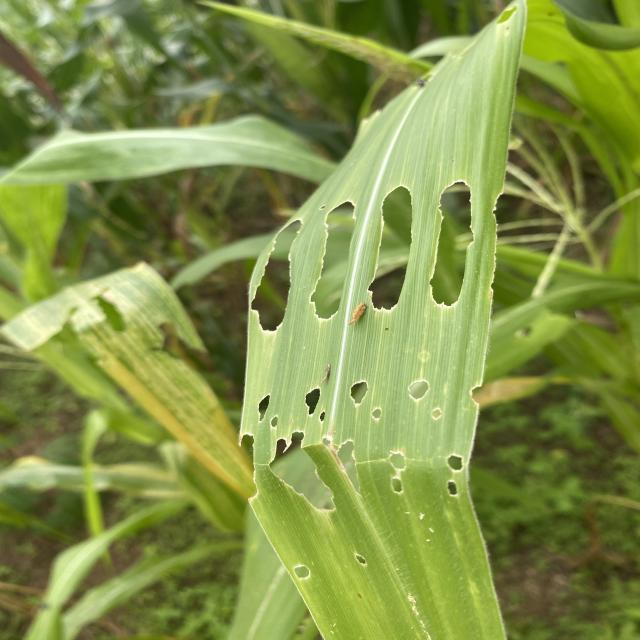fall-armyworm-larval-damage: (236, 153, 510, 348), (228, 373, 503, 531), (17, 288, 154, 383), (416, 0, 525, 81), (278, 547, 386, 587)
